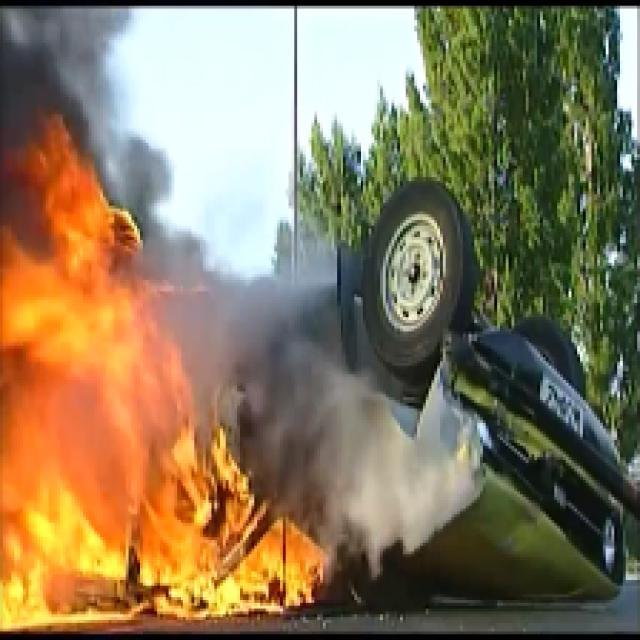Fire: (0, 74, 343, 632)
Smoke: (195, 282, 534, 588), (0, 0, 243, 266)
